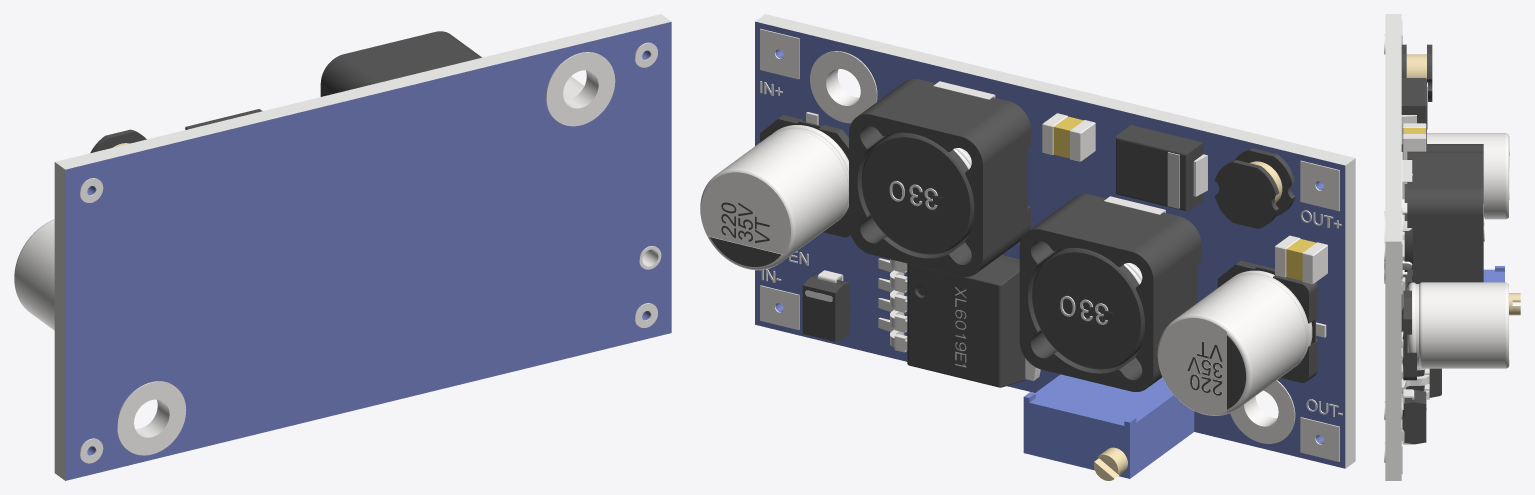
The model's file is DC-DC_converter.glb.
The picture shows the model from 3 angles, left to right: view 1: azimuth 30°, elevation 25°; view 2: azimuth 150°, elevation 25°; view 3: azimuth 270°, elevation 25°; orthographic projection. The views are drawn at different scales.
Parts seen in each view (by area): view 1: Node5, Node1, Node2, Node4, Node7, Node8; view 2: Node4, Node5, Node2, Node8, Node7, Node10, Node1, Node3, Node9, Node11, Node6; view 3: Node4, Node2, Node1, Node7, Node8, Node3, Node11, Node10, Node6.
Boxes of the visible parts, x1,y1,x2,y2 form: Node5: (65,22,671,480); Node1: (54,14,671,480); Node2: (79,42,661,463); Node4: (320,31,481,96); Node7: (14,219,54,330); Node8: (90,109,262,153); Node4: (710,79,1201,391); Node5: (755,21,1345,468); Node2: (700,28,1339,461); Node8: (914,125,1317,409); Node7: (1157,270,1326,415); Node10: (1023,374,1194,478); Node1: (755,14,1355,468); Node3: (878,81,1165,380); Node9: (1053,116,1316,280); Node11: (1093,161,1282,480); Node6: (1168,152,1222,393); Node4: (1401,144,1483,444); Node2: (1384,20,1509,474); Node1: (1385,14,1509,480); Node7: (1427,133,1509,219); Node8: (1401,44,1509,309); Node3: (1401,152,1429,403); Node11: (1406,54,1520,315); Node10: (1483,266,1504,282); Node6: (1401,82,1509,188).
Size of the model in its own units: 53 by 26.06 by 13.39.
